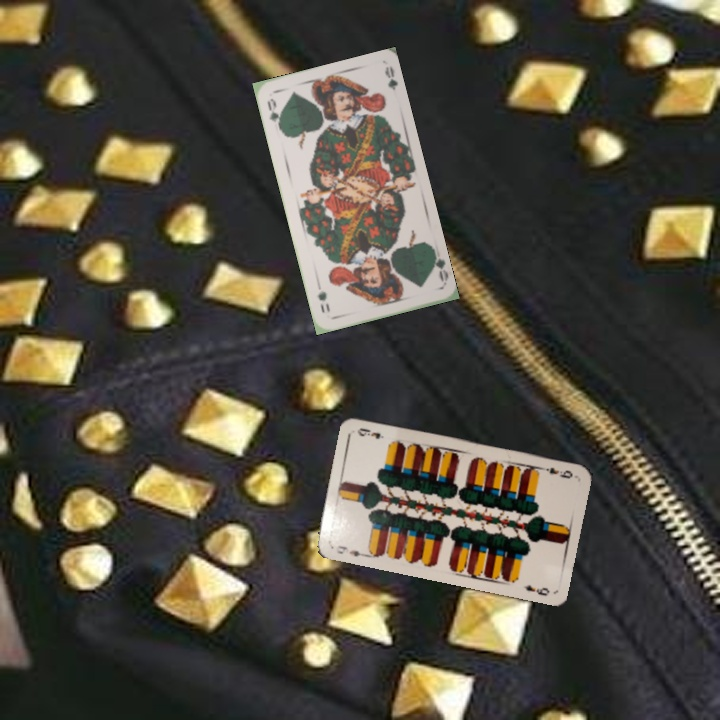E9: (537, 463, 575, 481), (333, 542, 368, 559)
GO: (427, 246, 450, 286), (263, 94, 284, 133)
